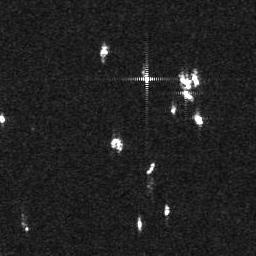ship: (179, 88, 195, 102), (192, 111, 204, 127), (98, 44, 110, 58), (191, 73, 201, 89), (146, 160, 155, 175), (164, 204, 171, 218), (137, 216, 143, 231), (170, 104, 177, 115)
